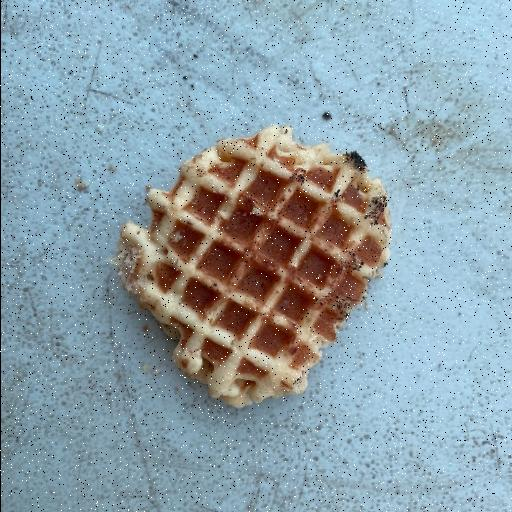Waste: (115, 122, 393, 408)
